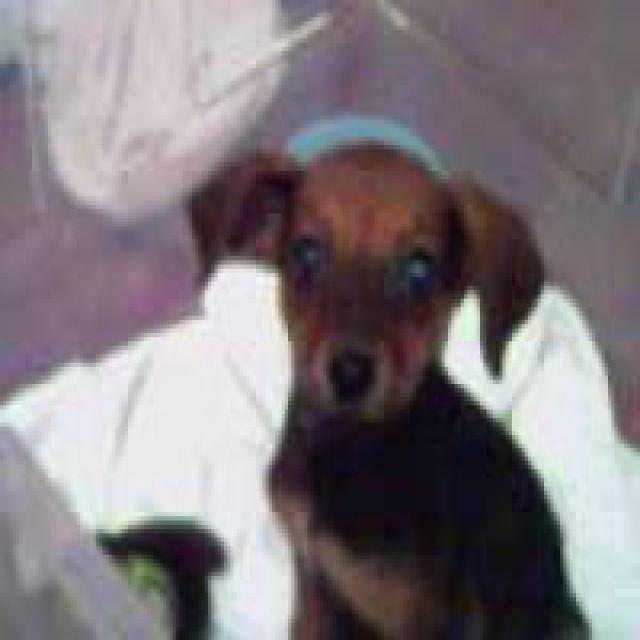dog: (182, 132, 541, 422)
